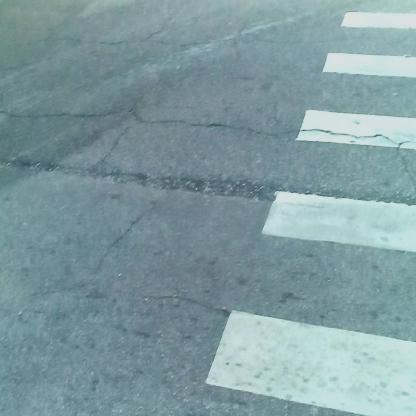crosswalk: (201, 9, 416, 389)
